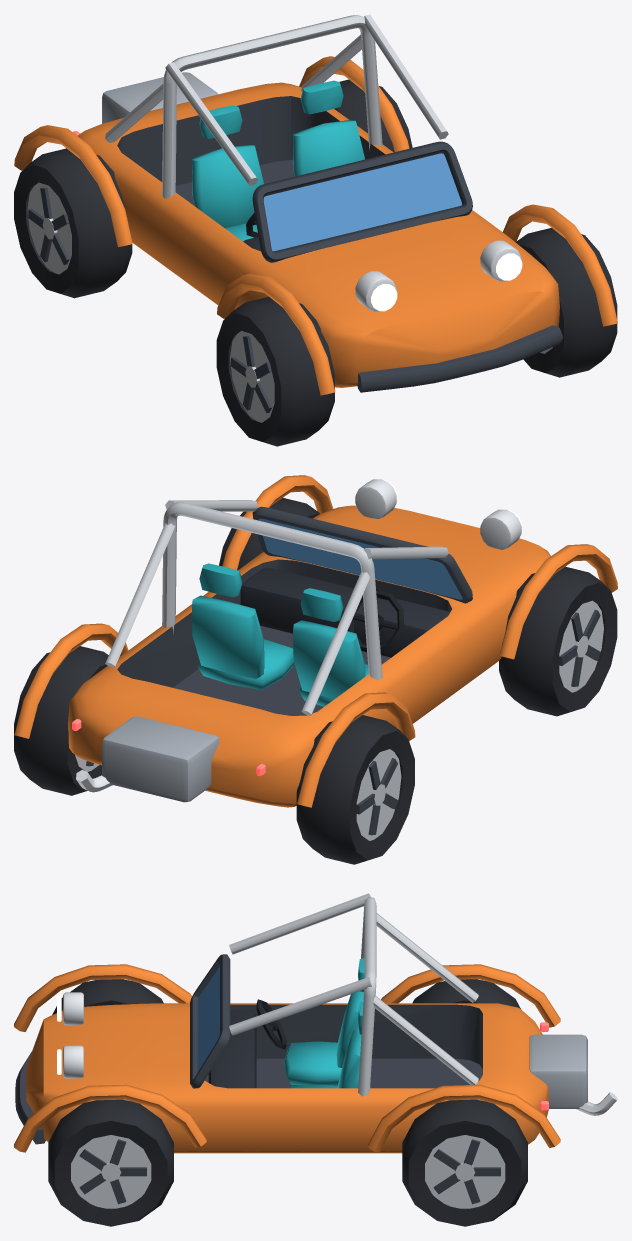
The model's file is bugue_laranja.glb.
The picture shows the model from 3 angles, top to bottom: view 1: azimuth 30°, elevation 25°; view 2: azimuth 150°, elevation 25°; view 3: azimuth 270°, elevation 25°; orthographic projection. The views are drawn at different scales.
Visible parts, largest first — view 1: bugue_laranja, roda_dianteira_esq, roda_traseira_esq, roda_dianteira_dir, roda_traseira_dir; view 2: bugue_laranja, roda_traseira_esq, roda_dianteira_esq, roda_traseira_dir, roda_dianteira_dir; view 3: bugue_laranja, roda_dianteira_dir, roda_traseira_dir, roda_dianteira_esq, roda_traseira_esq.
Part boxes in pixels (x1,y1,x2,y2): bugue_laranja: (14,14,617,395); roda_dianteira_esq: (216,297,334,446); roda_traseira_esq: (14,148,132,298); roda_dianteira_dir: (515,228,617,377); roda_traseira_dir: (334,79,412,152); bugue_laranja: (14,475,617,807); roda_traseira_esq: (296,715,414,864); roda_dianteira_esq: (499,566,617,716); roda_traseira_dir: (14,646,108,795); roda_dianteira_dir: (219,498,320,570); bugue_laranja: (14,893,617,1153); roda_dianteira_dir: (48,1099,173,1226); roda_traseira_dir: (402,1099,527,1226); roda_dianteira_esq: (52,979,163,1014); roda_traseira_esq: (412,979,520,1008).
Size of the model in its own units: 2.26 by 1.66 by 4.03.
Materials: 4 (1 with a texture image).
